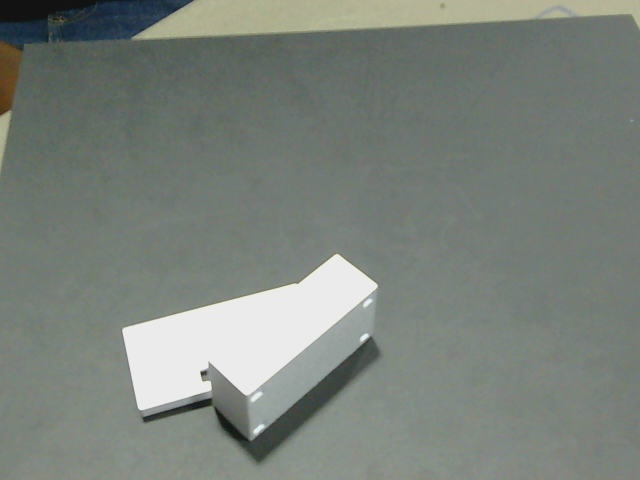enclosure_good: (123, 255, 376, 410)
